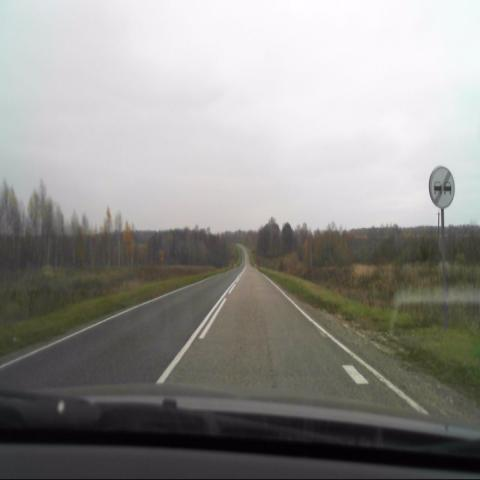3_21: (428, 165, 454, 209)
